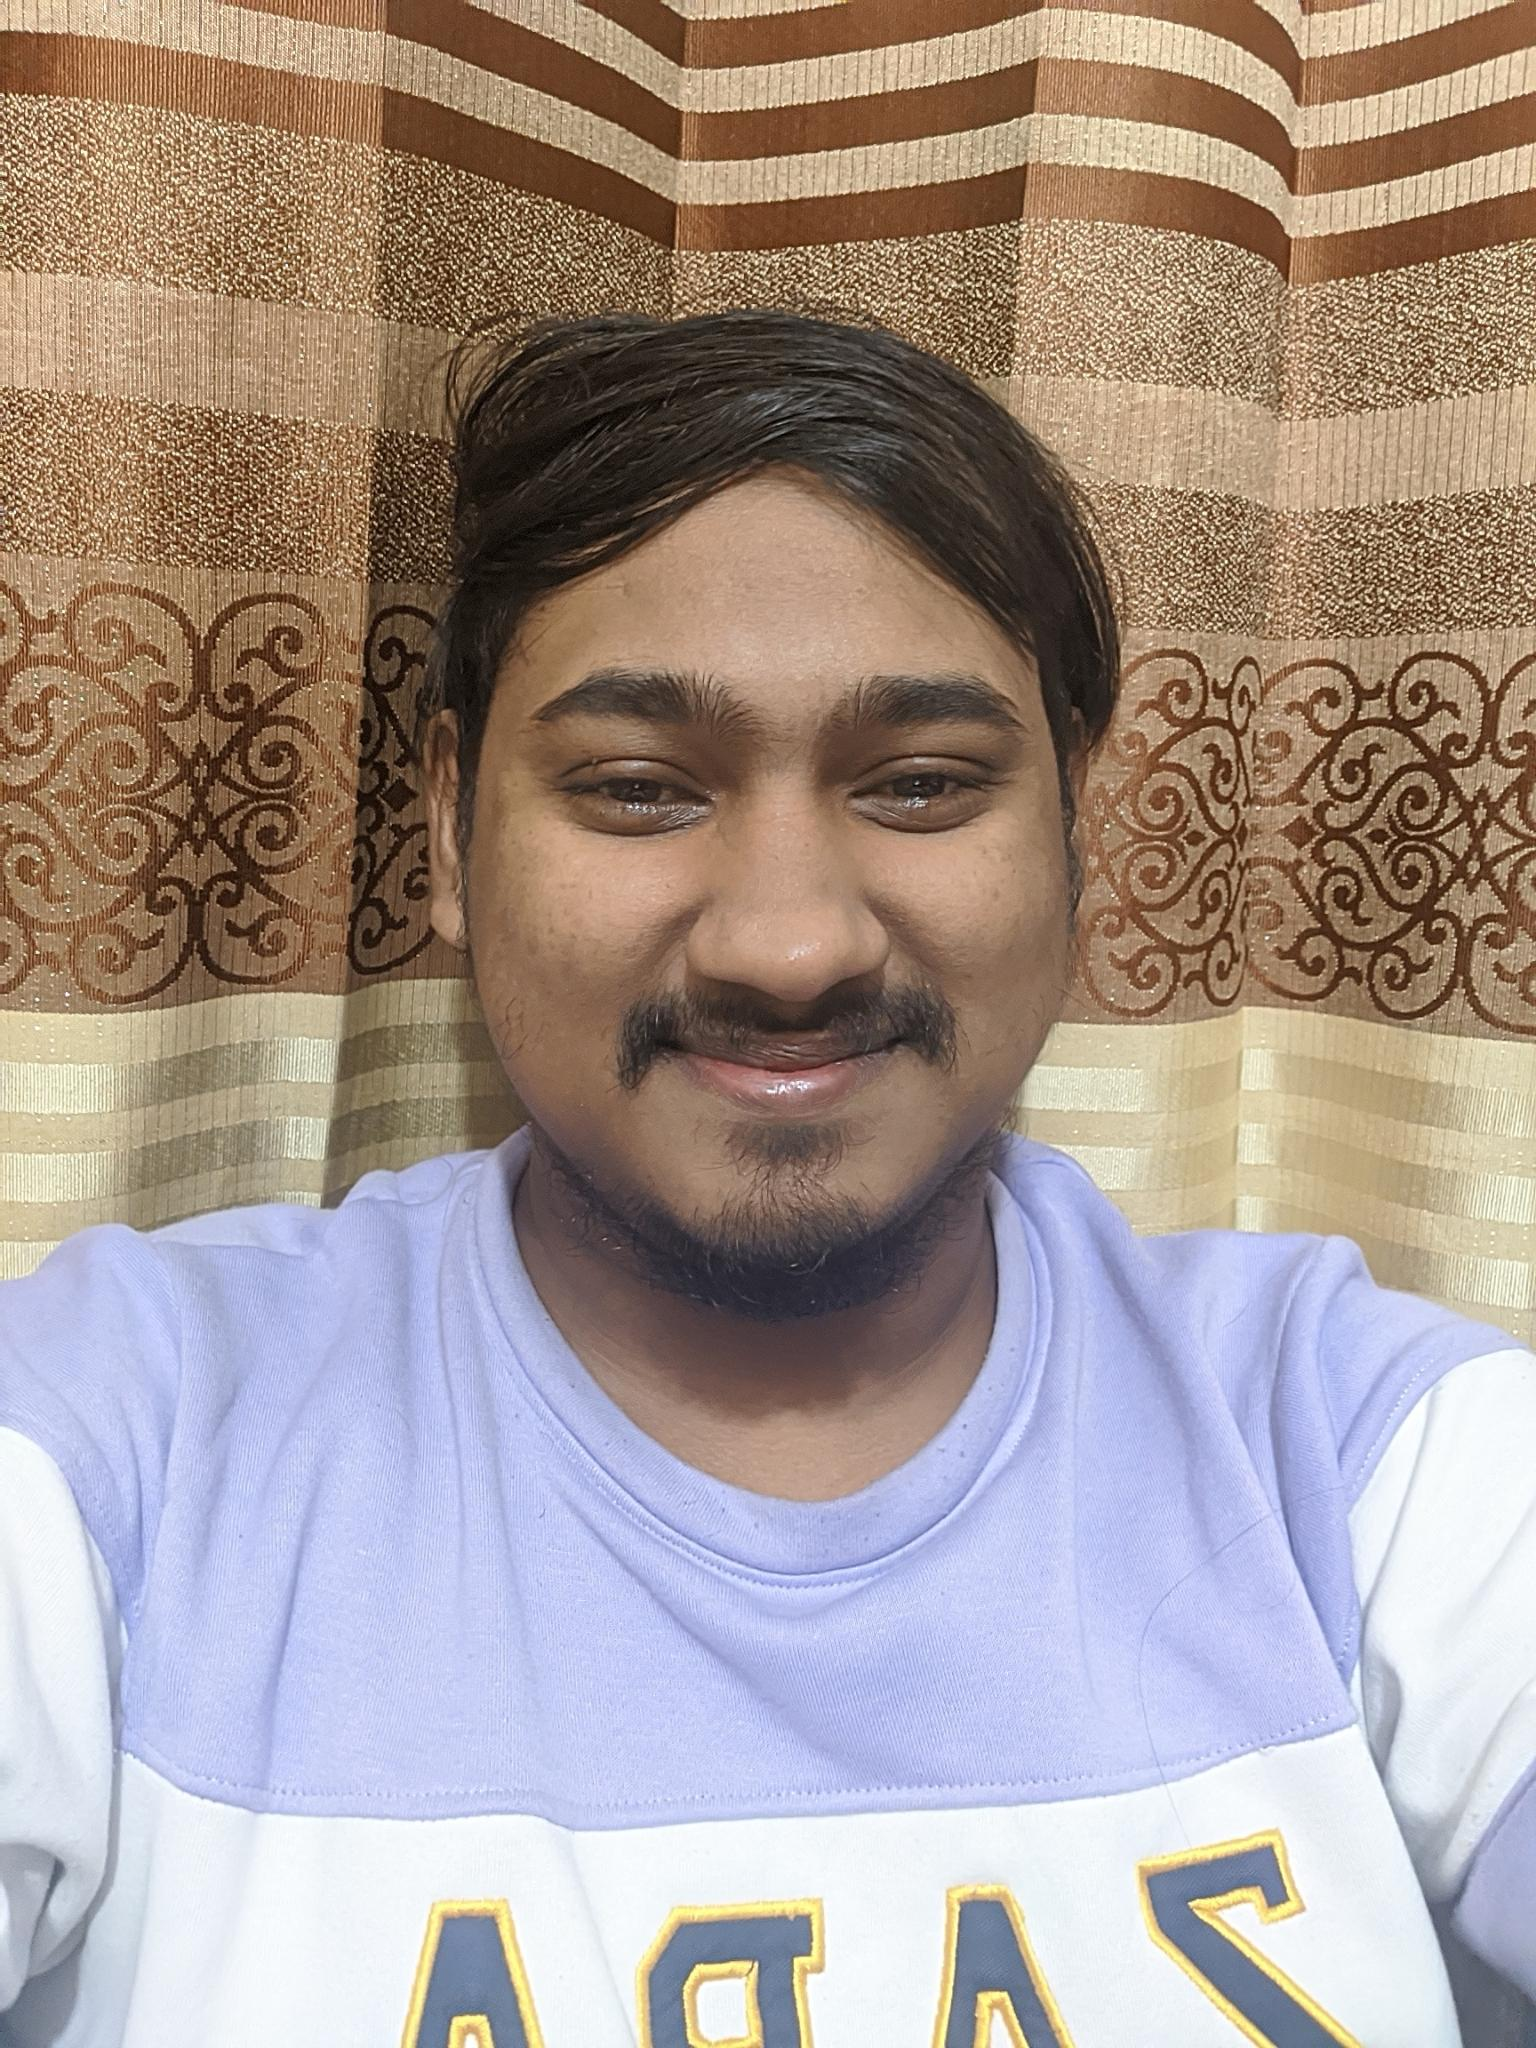Happy: (481, 584, 1049, 1279)
